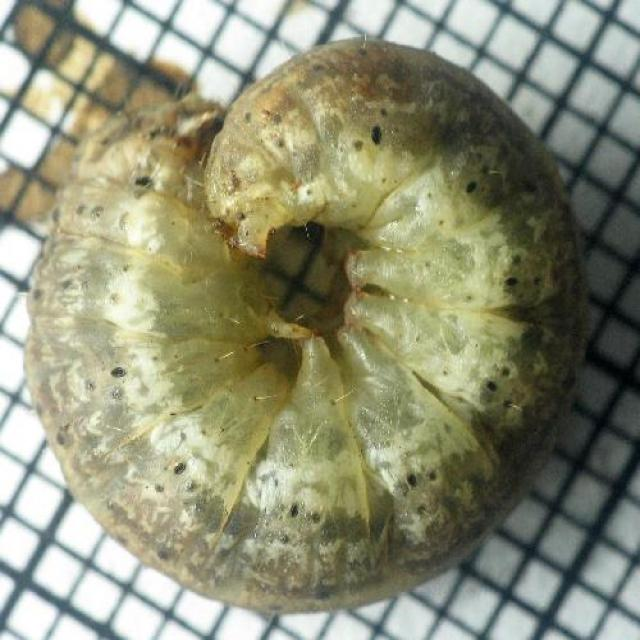cutworm: (20, 38, 588, 610)
